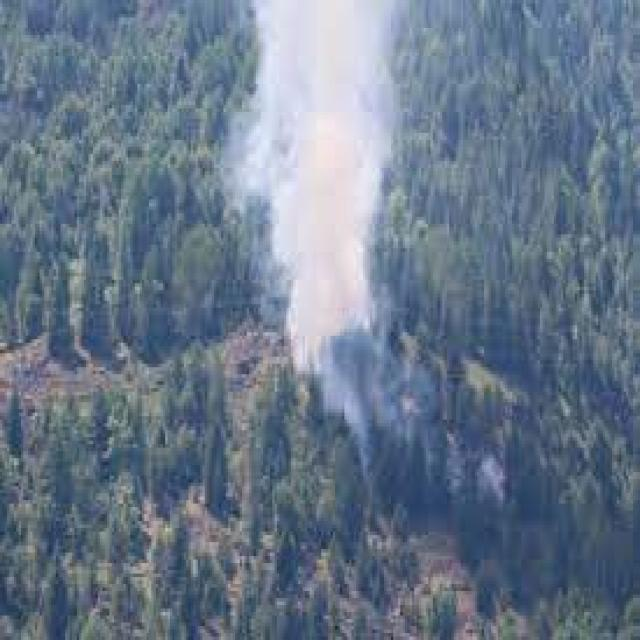Smoke: (205, 0, 419, 385)
